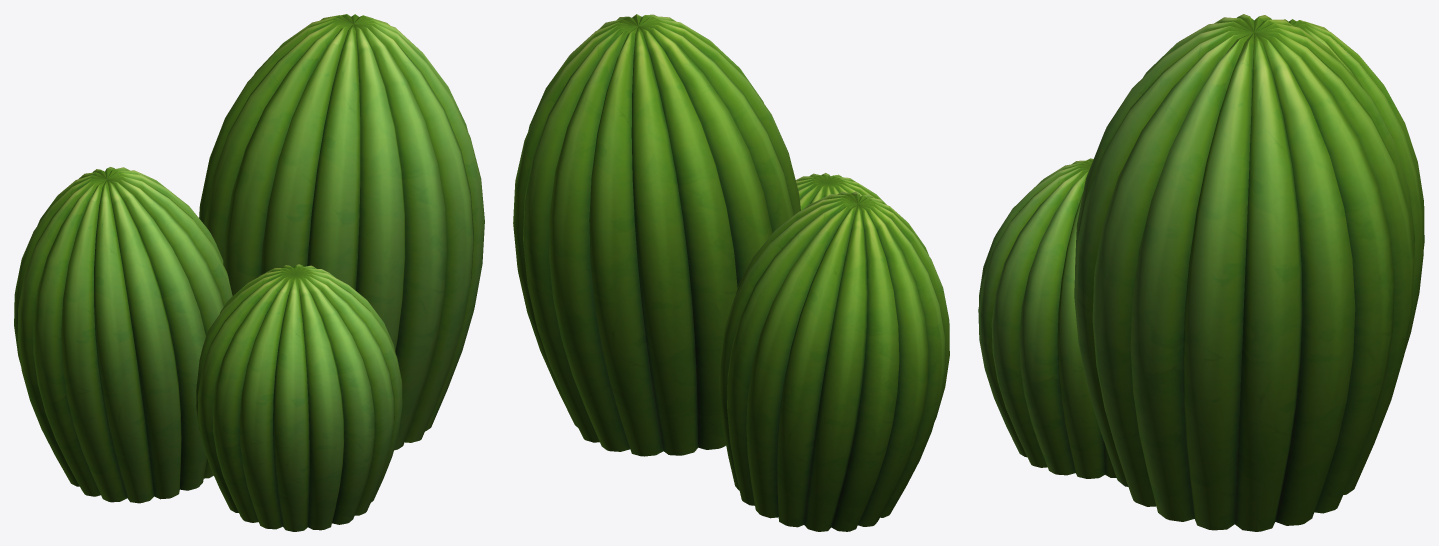
Rendered from DE_Cactus_29.fbx.
3 renders of one model, left to right at view 1: azimuth 30°, elevation 25°; view 2: azimuth 150°, elevation 25°; view 3: azimuth 270°, elevation 25°, orthographic. The views are drawn at different scales.
Visible parts, largest first — view 1: DE_Cactus_29; view 2: DE_Cactus_29; view 3: DE_Cactus_29.
Part boxes in pixels (x1=…): DE_Cactus_29: x1=14, y1=14, x2=484, y2=531; DE_Cactus_29: x1=513, y1=14, x2=949, y2=531; DE_Cactus_29: x1=978, y1=14, x2=1424, y2=531.
Bounding box in the file's own units: 1.77 × 1.7 × 1.37.
